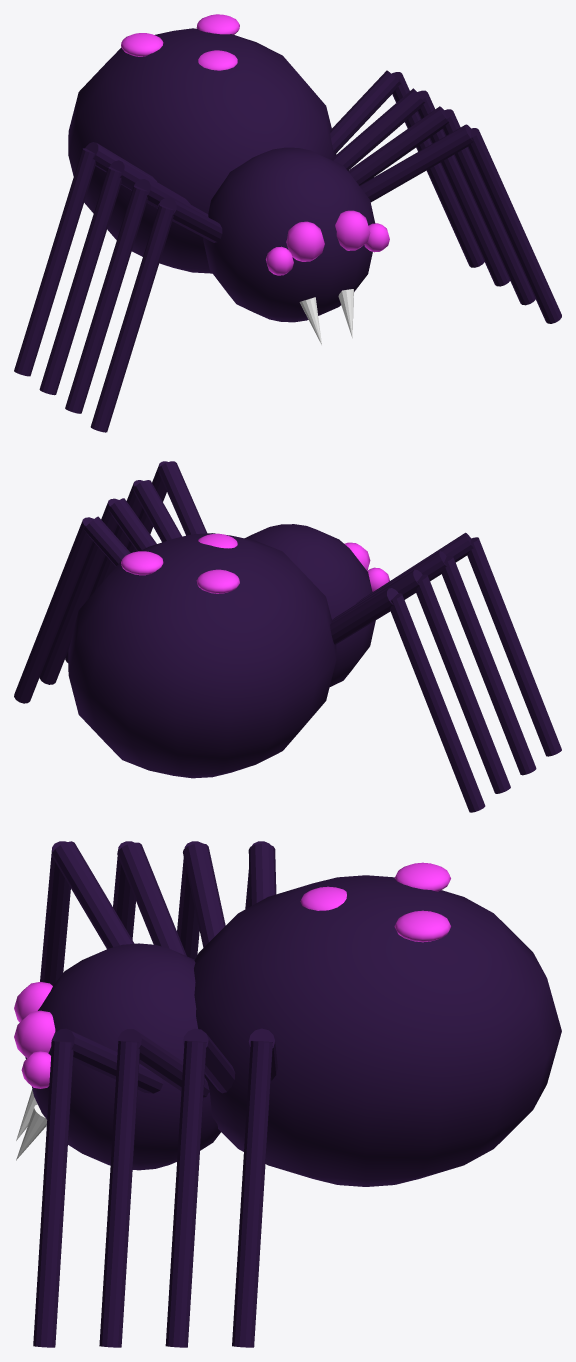
The picture shows the model from 3 angles, top to bottom: view 1: azimuth 30°, elevation 25°; view 2: azimuth 150°, elevation 25°; view 3: azimuth 270°, elevation 25°; orthographic projection. The views are drawn at different scales.
Visible parts, largest first — view 1: Void Mite; view 2: Void Mite; view 3: Void Mite.
Part boxes in pixels (x1,y1,x2,y2): Void Mite: [14, 14, 561, 432]; Void Mite: [14, 461, 561, 812]; Void Mite: [14, 841, 561, 1347].
Size of the model in its own units: 2.78 by 1.37 by 2.17.
Materials: 1 (1 with a texture image).
